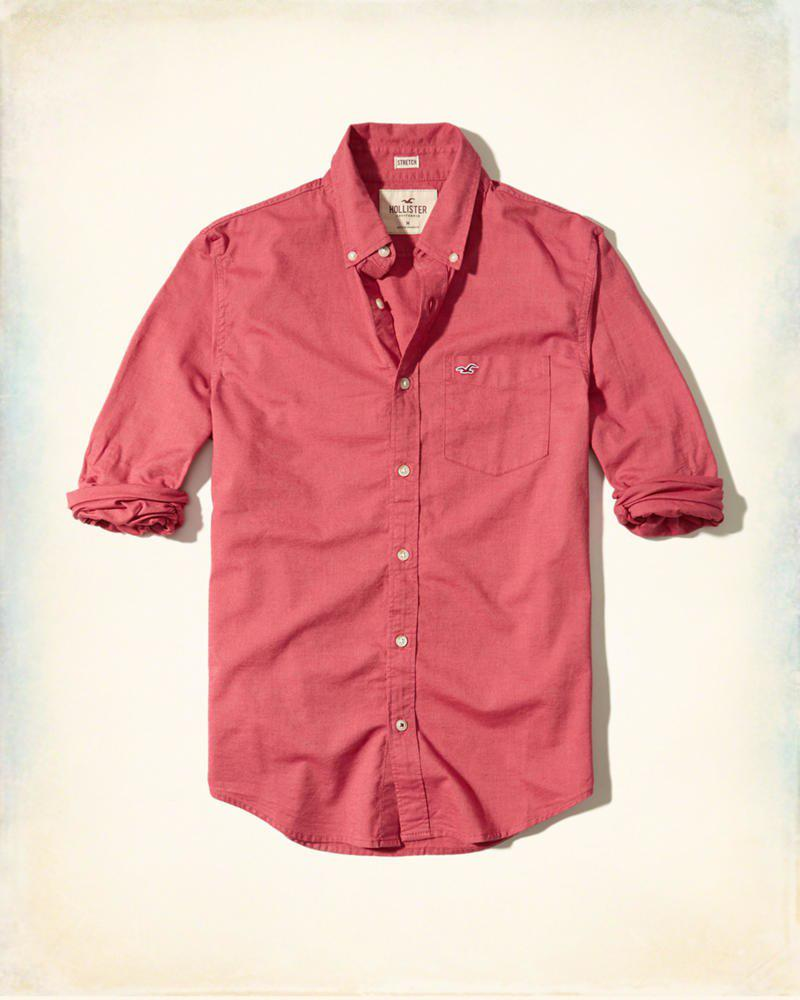teeshirt: (68, 112, 738, 842)
